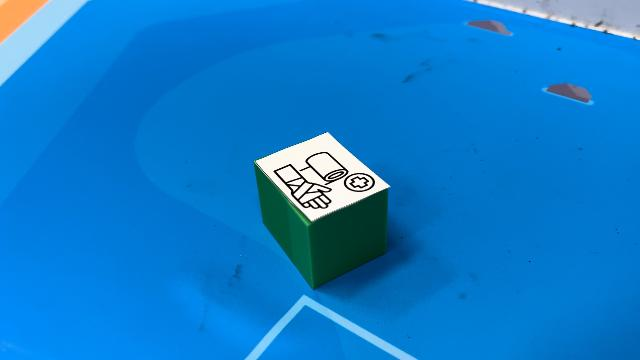bandage: (253, 131, 391, 289)
